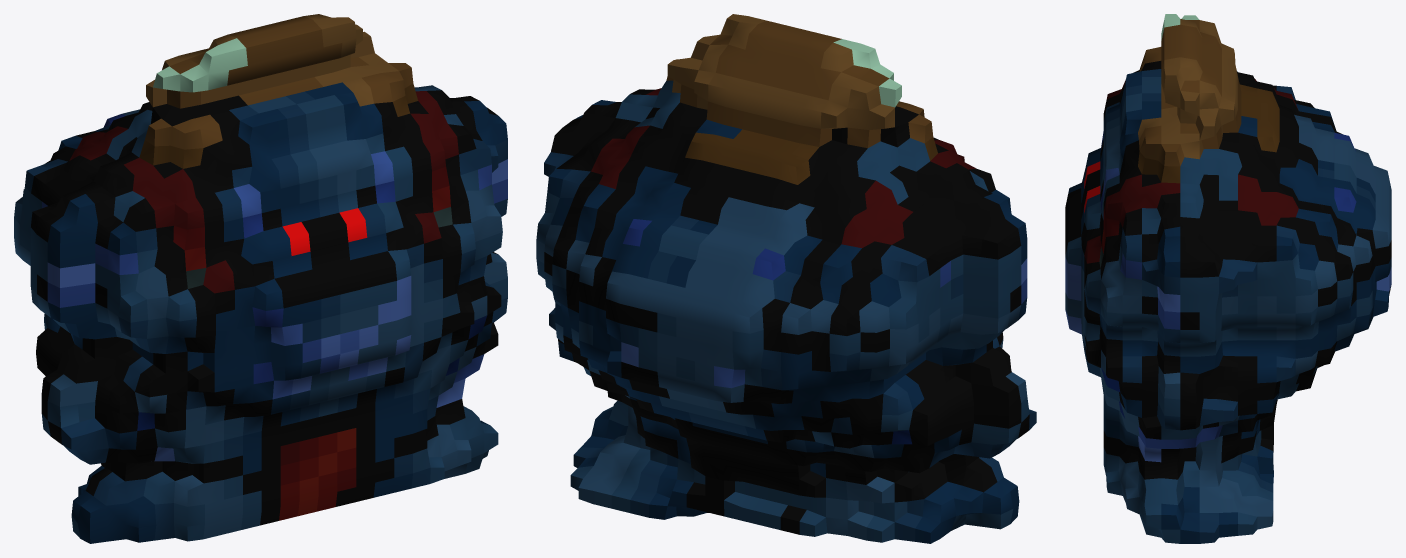
File: Icon_723_01.obj
3 renders of one model, left to right at view 1: azimuth 30°, elevation 25°; view 2: azimuth 150°, elevation 25°; view 3: azimuth 270°, elevation 25°, orthographic. The views are drawn at different scales.
Bounding box in the file's own units: 2.4 × 2.4 × 1.7.
1 material, 1 textured.
